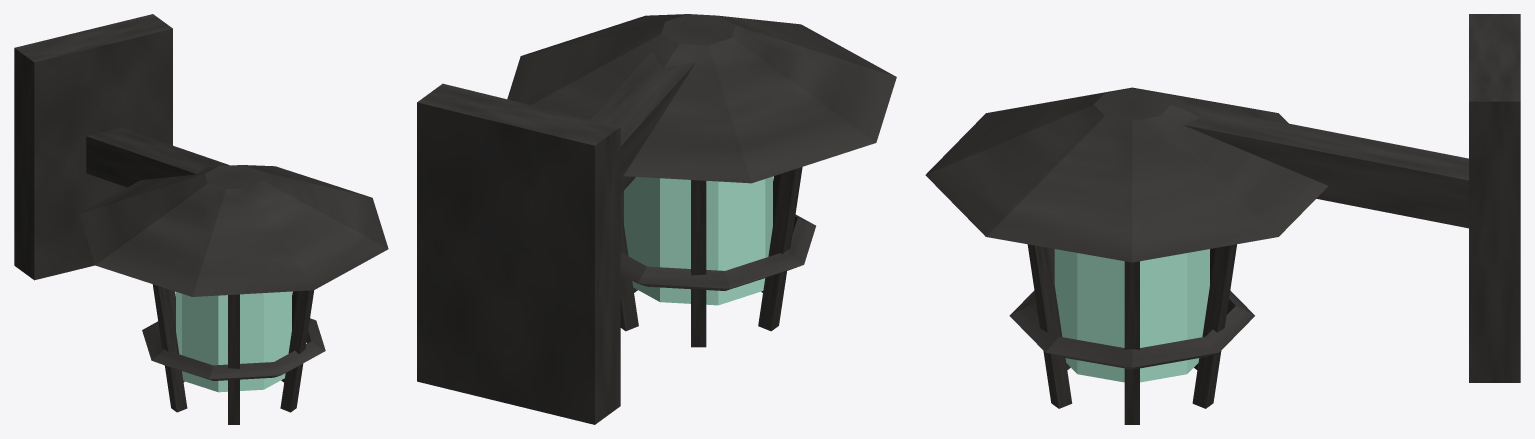
Rendered from lamp_wall.fbx.
The picture shows the model from 3 angles, left to right: view 1: azimuth 30°, elevation 25°; view 2: azimuth 150°, elevation 25°; view 3: azimuth 270°, elevation 25°; orthographic projection. The views are drawn at different scales.
Visible parts, largest first — view 1: lamp_wall; view 2: lamp_wall; view 3: lamp_wall.
Part boxes in pixels (x1,y1,x2,y2): lamp_wall: [14, 14, 388, 424]; lamp_wall: [417, 14, 896, 424]; lamp_wall: [925, 14, 1520, 424].
Size of the model in its own units: 0.32 by 0.2809 by 0.46.
2 materials, 2 textured.
